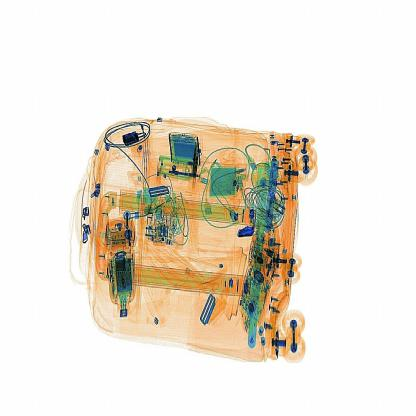knife: (230, 220, 257, 242)
